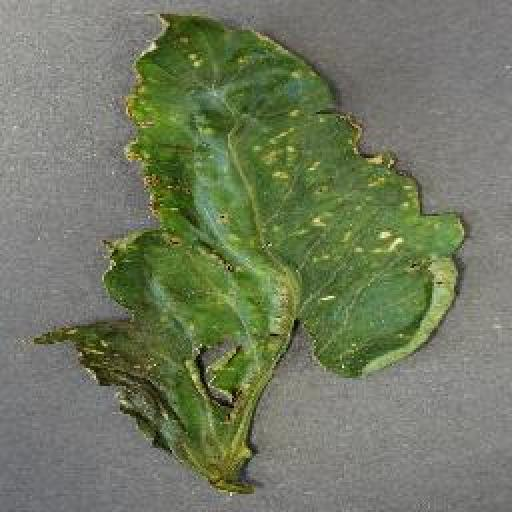Bacterial Spot: (30, 6, 478, 500)
